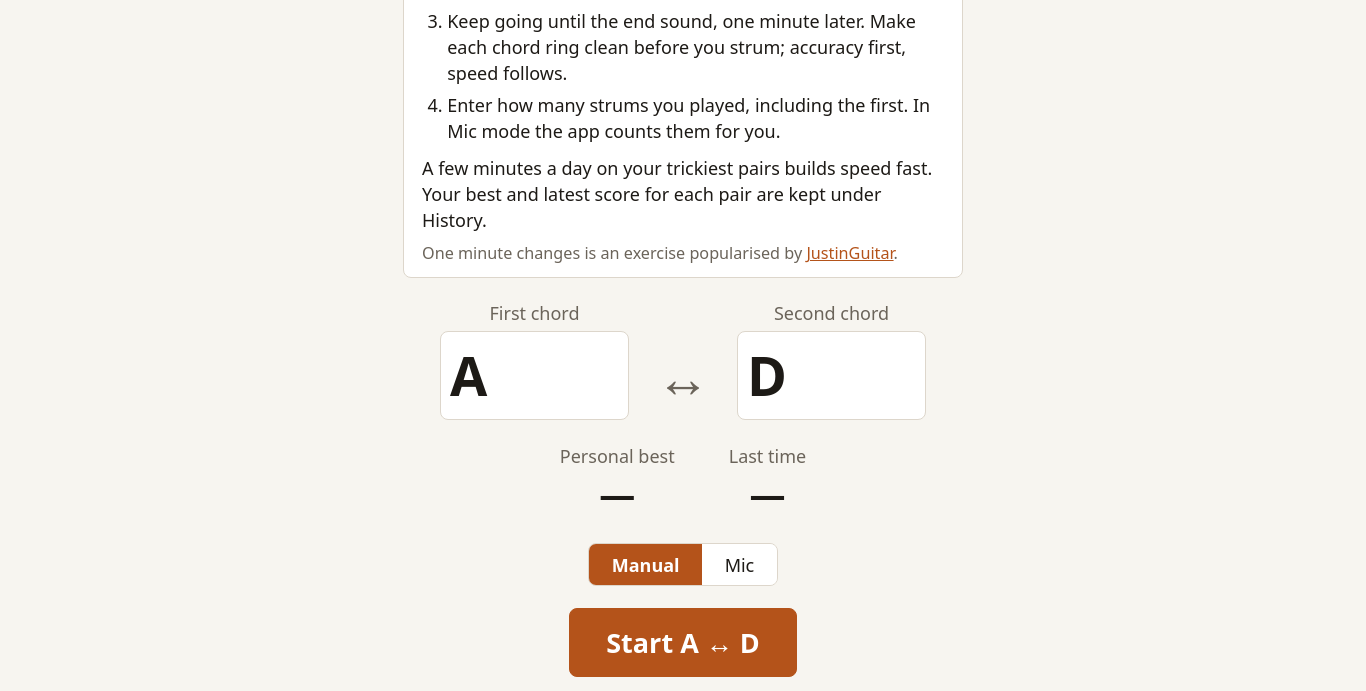
the chosen pair survives a visit to the metronome
(page scrolled)
Replace the text in the field labelled "Second chord" with "E" at (832, 376), box [737,331,926,420]
(page scrolled)
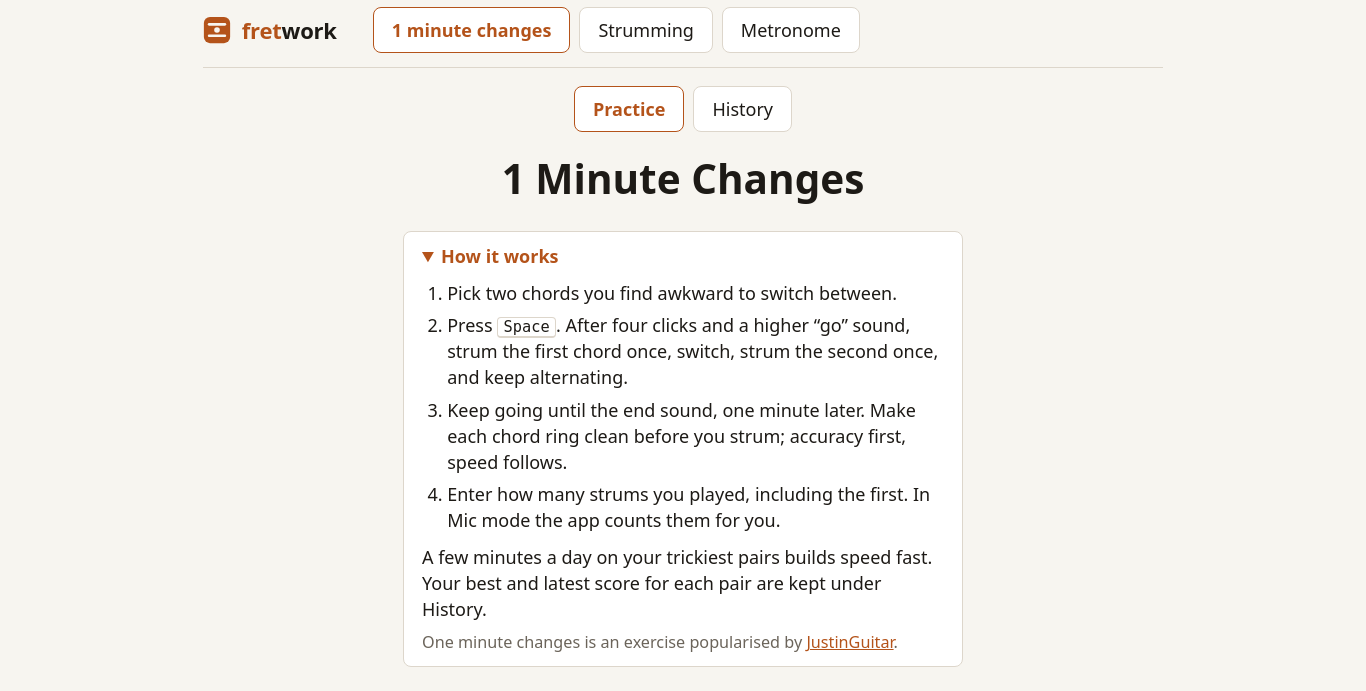
Click the button "Metronome" at (791, 30), box [722,7,860,53]
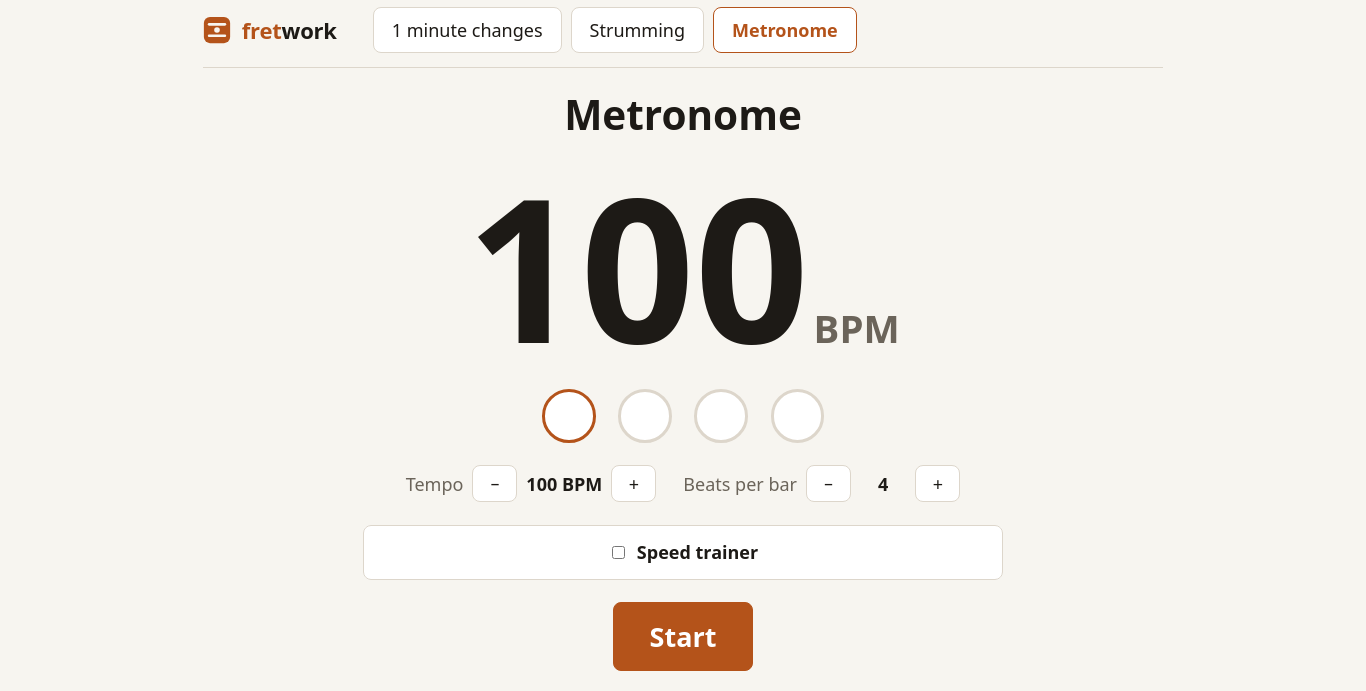
Click the button "1 minute changes" at (467, 30), box [373,7,562,53]
(page scrolled)
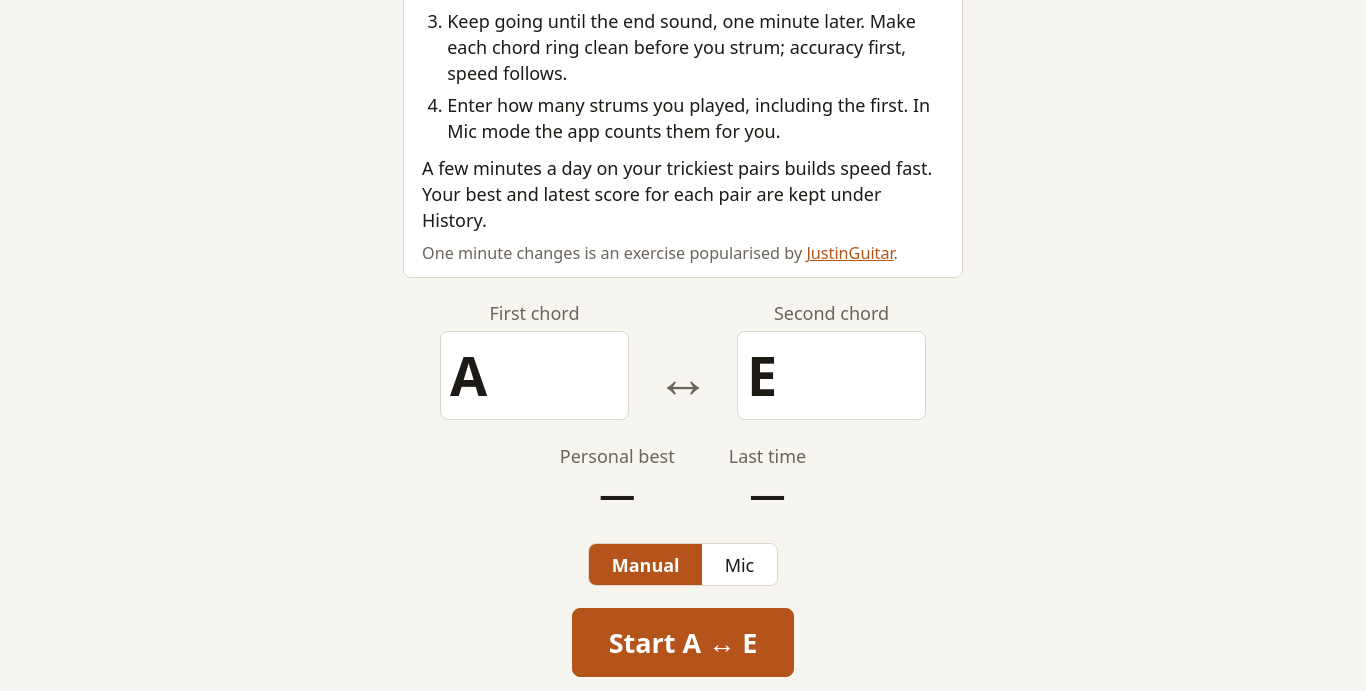
Check: the field labelled "Second chord" holds "E", box [737,331,926,420]
